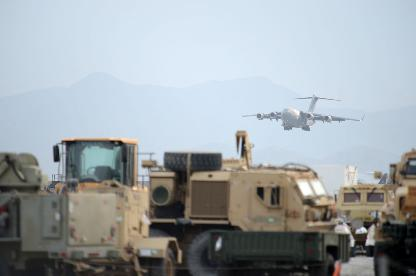C2: (240, 93, 364, 130)
